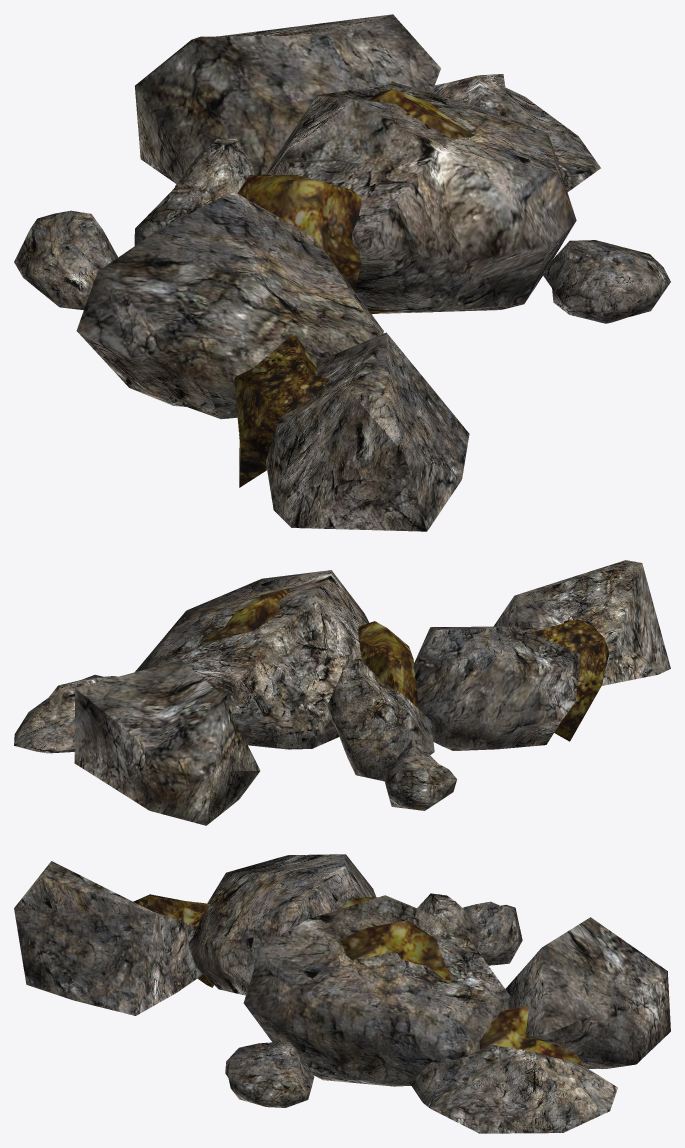
The model's file is pir_m_prp_cav_rockGroupGold_e.fbx.
3 renders of one model, top to bottom at view 1: azimuth 30°, elevation 25°; view 2: azimuth 150°, elevation 25°; view 3: azimuth 270°, elevation 25°, orthographic. The views are drawn at different scales.
Visible parts, largest first — view 1: rock_2, rock_3, rock_0, rock_7, rock_6, rock_16, rock_5, rock_12, rock_4, rock_1, rock_8; view 2: rock_2, rock_7, rock_3, rock_0, rock_1, rock_16, rock_5, rock_4, rock_12, rock_8; view 3: rock_2, rock_0, rock_7, rock_3, rock_4, rock_6, rock_8, rock_5, rock_20, rock_16, rock_1.
Part boxes in pixels (x1,y1,x2,y2): rock_2: (264, 83, 576, 313); rock_3: (76, 191, 383, 419); rock_0: (266, 332, 469, 531); rock_7: (135, 14, 440, 183); rock_6: (542, 240, 670, 323); rock_16: (234, 335, 329, 487); rock_5: (14, 210, 117, 310); rock_12: (237, 175, 390, 314); rock_4: (432, 74, 600, 192); rock_1: (134, 138, 254, 245); rock_8: (368, 89, 474, 137); rock_2: (135, 570, 369, 749); rock_7: (74, 660, 260, 825); rock_3: (413, 626, 580, 750); rock_0: (493, 560, 670, 685); rock_1: (327, 658, 434, 781); rock_16: (531, 620, 609, 741); rock_5: (383, 740, 456, 810); rock_4: (14, 674, 117, 753); rock_12: (358, 621, 418, 708); rock_8: (200, 588, 289, 643); rock_2: (243, 895, 510, 1086); rock_0: (14, 861, 203, 1015); rock_7: (505, 917, 670, 1068); rock_3: (188, 854, 375, 995); rock_4: (410, 1044, 617, 1133); rock_6: (225, 1041, 314, 1107); rock_8: (340, 921, 451, 982); rock_5: (463, 901, 522, 965); rock_20: (479, 1006, 582, 1066); rock_16: (133, 894, 213, 987); rock_1: (417, 893, 479, 949).
Bounding box in the file's own units: 3626 × 1356 × 4623.
Materials: 2 (2 with a texture image).
